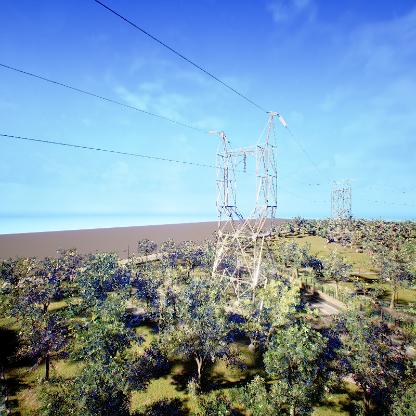tower: (206, 110, 288, 322)
